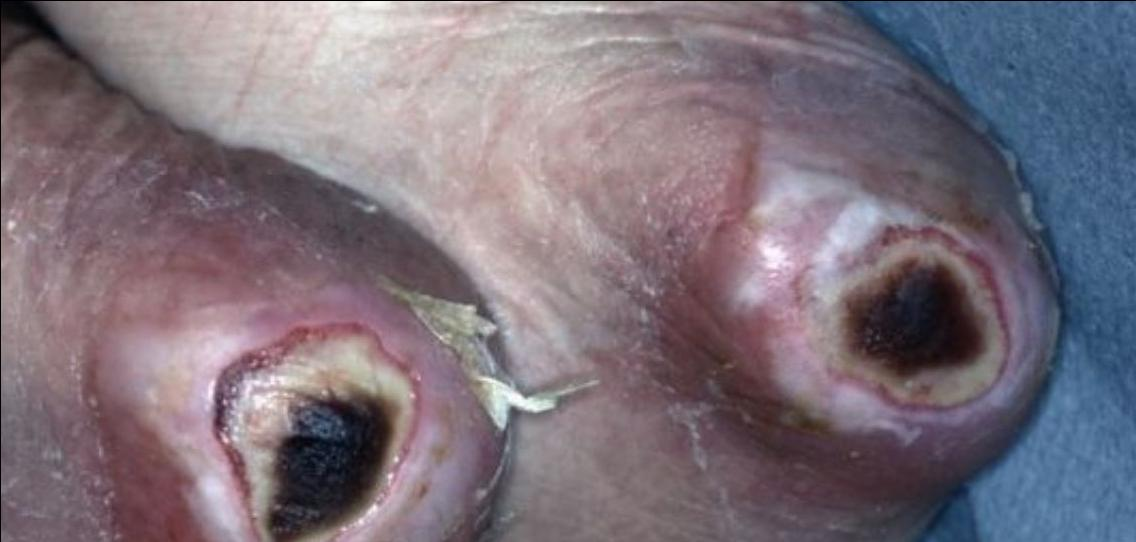Stage3: (117, 293, 448, 542)
